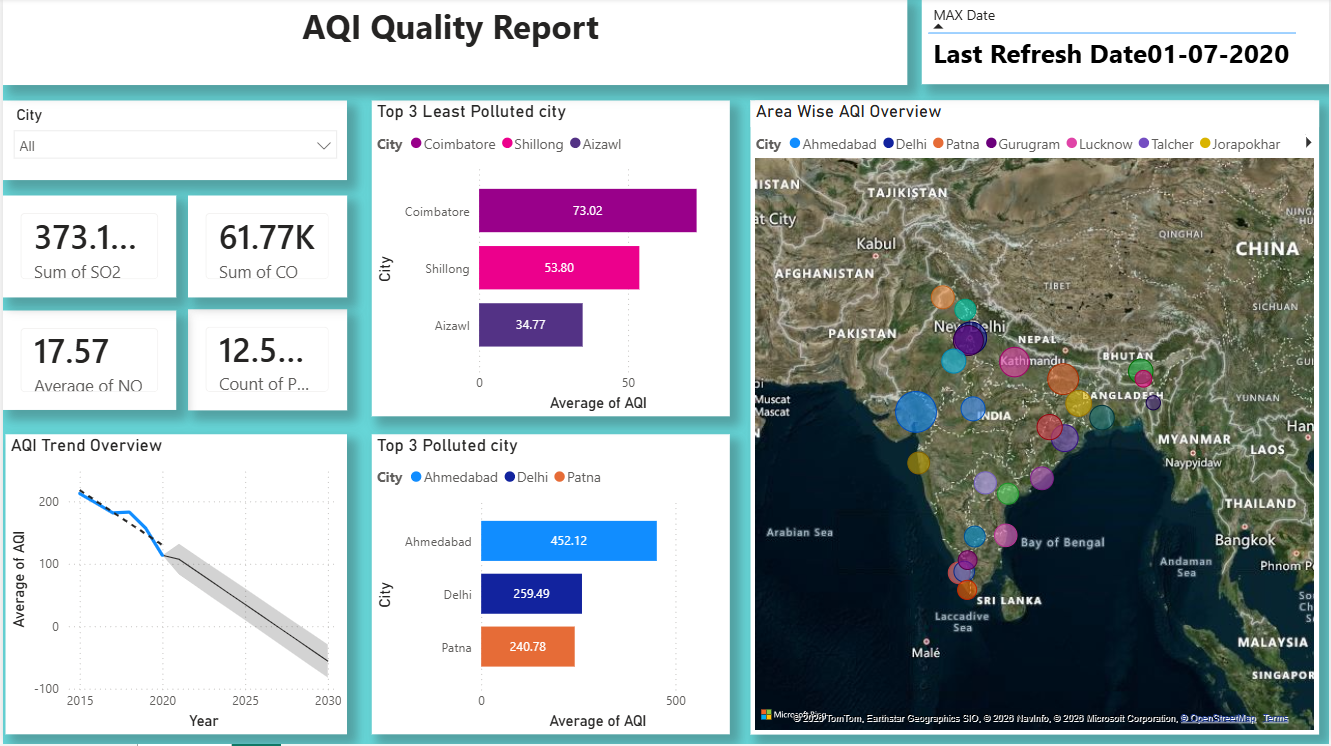

The page's visual inventory and layout, read from the dashboard file:
{"tool":"powerbi","page":{"name":"Page 1","canvas":[1280,720],"ordinal":0},"visuals":[{"type":"lineChart","title":"AQI Trend Overview","fields":{"Category":["city_day.Date.Variation.Date Hierarchy.Year","city_day.Date.Variation.Date Hierarchy.Quarter","city_day.Date.Variation.Date Hierarchy.Month","city_day.Date.Variation.Date Hierarchy.Day"],"Y":["Avg(city_day.AQI)"]},"box":[2.7,421.3,329.3,289.5],"z":0},{"type":"slicer","fields":{"Values":["city_day.City"]},"box":[0,98.8,332.1,76.8],"z":1000},{"type":"barChart","title":"Top 3 Polluted city ","fields":{"Category":["city_day.City"],"Y":["Avg(city_day.AQI)"],"Series":["city_day.City"]},"box":[355.4,421.3,345.8,289.5],"z":2000},{"type":"barChart","title":"Top 3 Least Polluted city ","fields":{"Category":["city_day.City"],"Y":["Avg(city_day.AQI)"],"Series":["city_day.City"]},"box":[355.4,98.8,345.8,304.6],"z":3000},{"type":"cardVisual","fields":{"Data":["Count(city_day.PM10)"]},"box":[178.4,300.5,153.7,97.4],"z":4000},{"type":"map","title":"Area Wise AQI Overview","fields":{"Category":["city_day.City"],"Size":["Avg(city_day.AQI)"],"Series":["city_day.City"]},"box":[721.8,98.8,548.9,612],"z":5000},{"type":"textbox","box":[0,0,872.7,83.7],"z":6000},{"type":"tableEx","fields":{"Values":["city_day.MAX Date"]},"box":[886.5,0,393.8,83.7],"z":7000},{"type":"cardVisual","fields":{"Data":["Avg(city_day.NO)"]},"box":[0,301.9,167.4,96.1],"z":8000},{"type":"cardVisual","fields":{"Data":["Sum(city_day.SO2)"]},"box":[0,190.7,167.4,98.8],"z":9000},{"type":"cardVisual","fields":{"Data":["Sum(city_day.CO)"]},"box":[178.4,190.7,153.7,98.8],"z":10000}]}

Visuals, with their boxes in screenshot pixels (x1, y1, x2, y2), scaled from the page's 1280x720 canvas onto the 1331x746 screenshot:
"AQI Trend Overview" lineChart: (3,437,345,736)
slicer - city_day.City: (0,102,345,182)
"Top 3 Polluted city " barChart: (370,437,729,736)
"Top 3 Least Polluted city " barChart: (370,102,729,418)
cardVisual - Count(city_day.PM10): (186,311,345,412)
"Area Wise AQI Overview" map: (751,102,1321,736)
textbox: (0,0,907,87)
tableEx - city_day.MAX Date: (922,0,1330,87)
cardVisual - Avg(city_day.NO): (0,313,174,412)
cardVisual - Sum(city_day.SO2): (0,198,174,300)
cardVisual - Sum(city_day.CO): (186,198,345,300)
